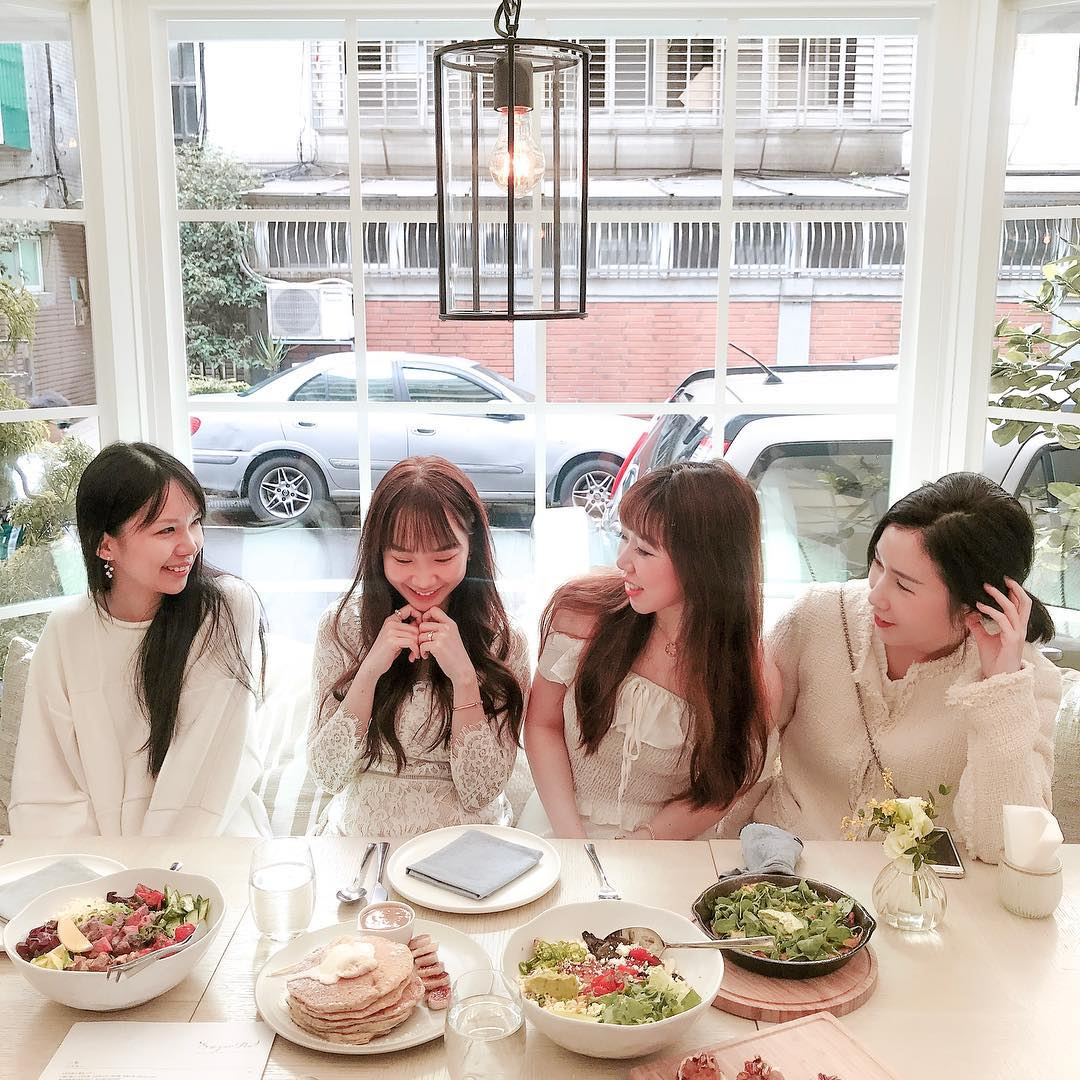people: (780, 480, 1079, 847), (532, 470, 780, 837), (51, 444, 267, 845), (310, 459, 529, 832)
